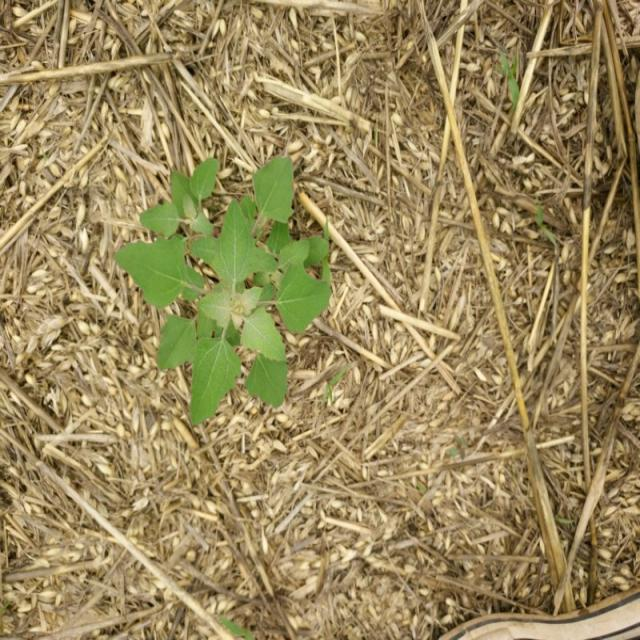goosefoots: (86, 133, 352, 396)
